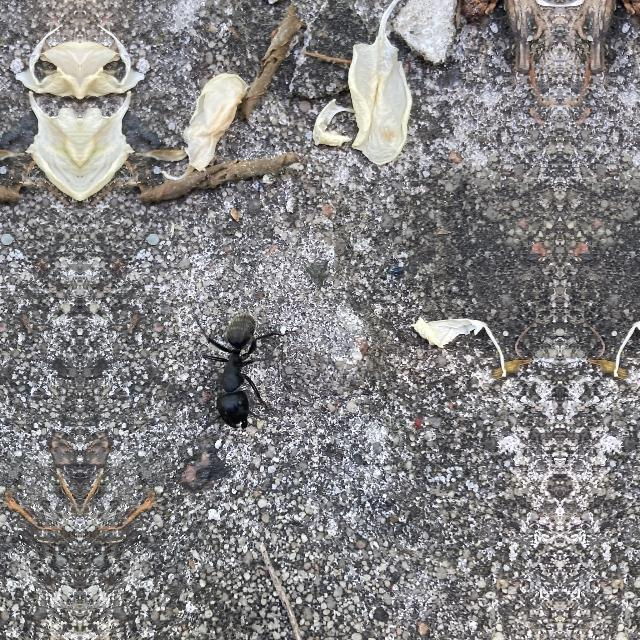Camponotus: (182, 284, 296, 442)
